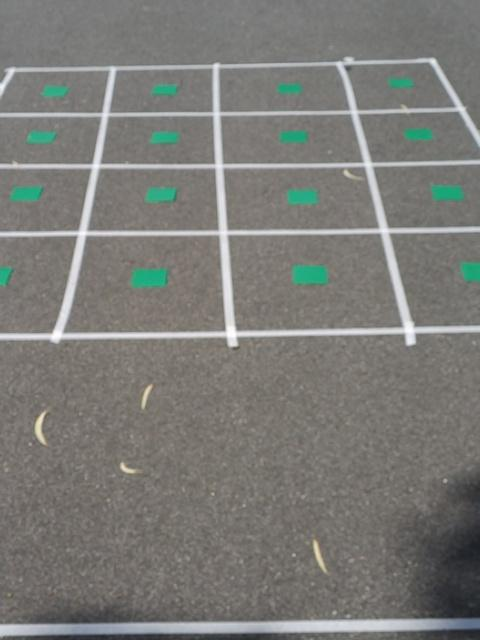weed: (289, 263, 331, 286), (130, 267, 169, 288), (8, 184, 45, 202), (286, 187, 320, 206), (431, 183, 465, 201), (144, 187, 178, 203), (458, 260, 480, 283), (403, 126, 434, 142), (278, 129, 309, 144), (26, 129, 57, 143), (41, 85, 70, 97), (151, 130, 180, 142), (0, 265, 16, 286), (275, 83, 304, 94), (151, 83, 179, 94), (387, 77, 414, 88)
